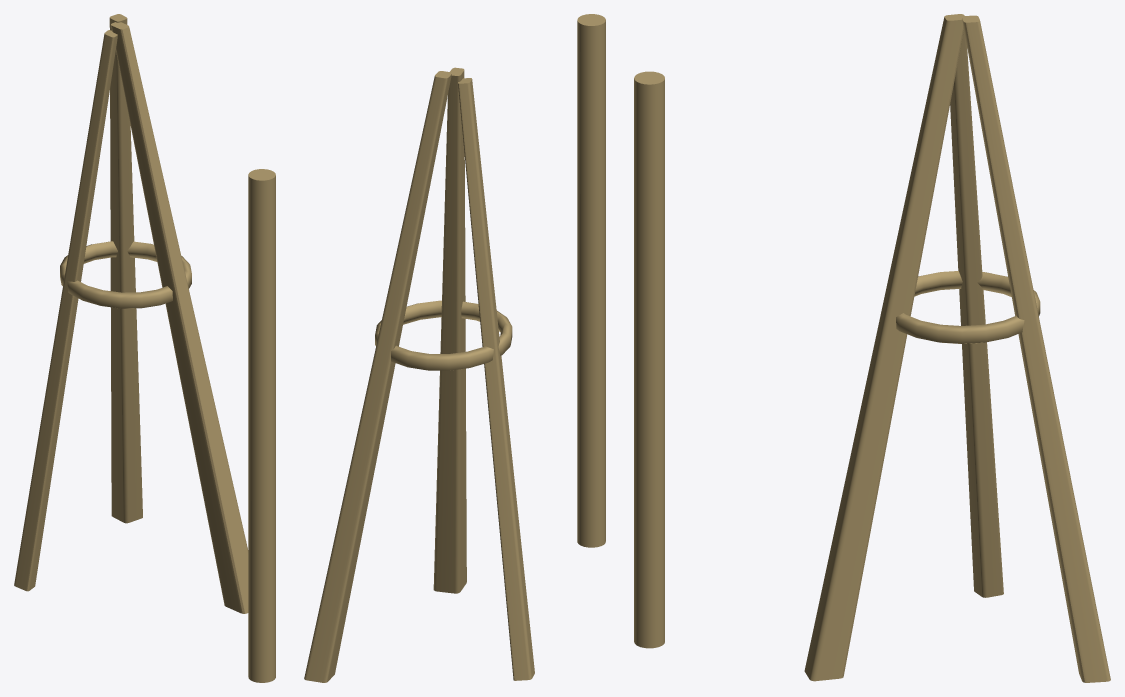
File: PlyWoodFBX.fbx
3 renders of one model, left to right at view 1: azimuth 30°, elevation 25°; view 2: azimuth 150°, elevation 25°; view 3: azimuth 270°, elevation 25°, orthographic. The views are drawn at different scales.
Visible parts, largest first — view 1: WindmillStilt01, TelephonePole, WindmillStilt03, WindmillStilt02, WindMillSupportCircle; view 2: TelephonePole, WindmillStilt03, WindmillStilt01, WindmillStilt02, WindMillSupportCircle; view 3: WindmillStilt01, TelephonePole, WindmillStilt03, WindmillStilt02, WindMillSupportCircle.
Part boxes in pixels (x1=…): WindmillStilt01: x1=111, y1=22, x2=248, y2=613; TelephonePole: x1=248, y1=169, x2=275, y2=682; WindmillStilt03: x1=109, y1=14, x2=142, y2=523; WindmillStilt02: x1=14, y1=30, x2=117, y2=591; WindMillSupportCircle: x1=60, y1=241, x2=191, y2=308; TelephonePole: x1=577, y1=14, x2=605, y2=547; WindmillStilt03: x1=304, y1=71, x2=451, y2=682; WindmillStilt01: x1=433, y1=67, x2=466, y2=593; WindmillStilt02: x1=458, y1=78, x2=534, y2=680; WindMillSupportCircle: x1=375, y1=300, x2=512, y2=370; WindmillStilt01: x1=804, y1=14, x2=964, y2=681; TelephonePole: x1=634, y1=71, x2=664, y2=648; WindmillStilt03: x1=962, y1=15, x2=1110, y2=682; WindmillStilt02: x1=950, y1=30, x2=1003, y2=597; WindMillSupportCircle: x1=896, y1=271, x2=1040, y2=343.
Size of the model in its own units: 1.49 by 4.65 by 3.23.
